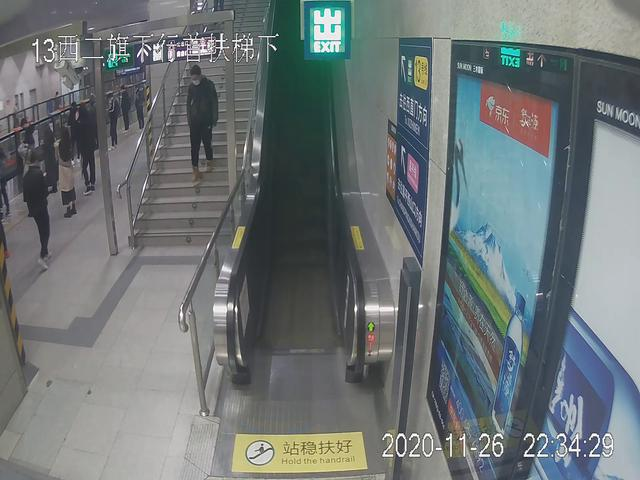person: (19, 154, 61, 270), (181, 63, 220, 186), (69, 103, 102, 198), (55, 127, 80, 225)
